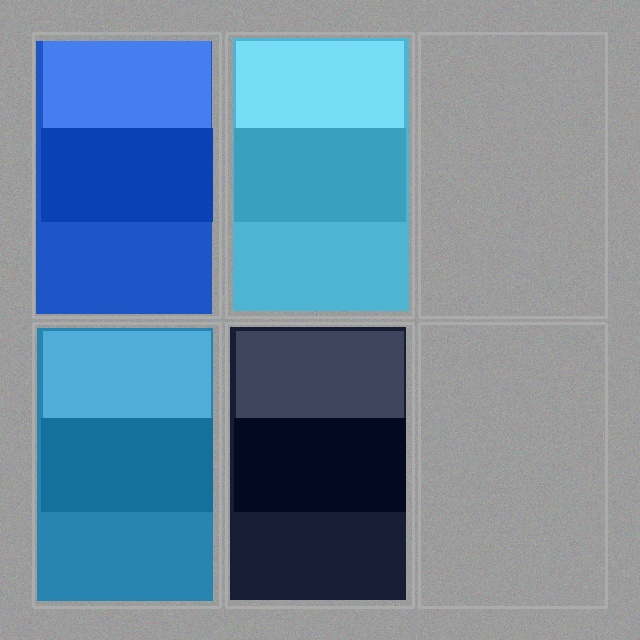space-empty: (421, 35, 604, 315), (421, 325, 604, 605)
space-occupied: (35, 35, 218, 315), (228, 35, 411, 315), (35, 325, 218, 605), (228, 325, 411, 605)
